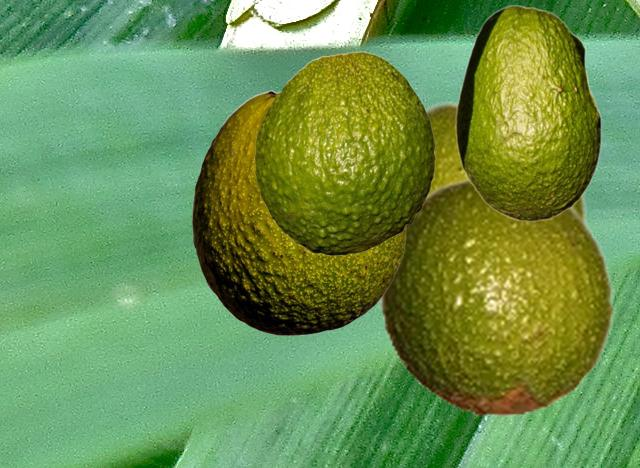avocado: (378, 176, 616, 417), (192, 90, 405, 334), (254, 51, 434, 254), (455, 4, 601, 221), (425, 95, 588, 219)
